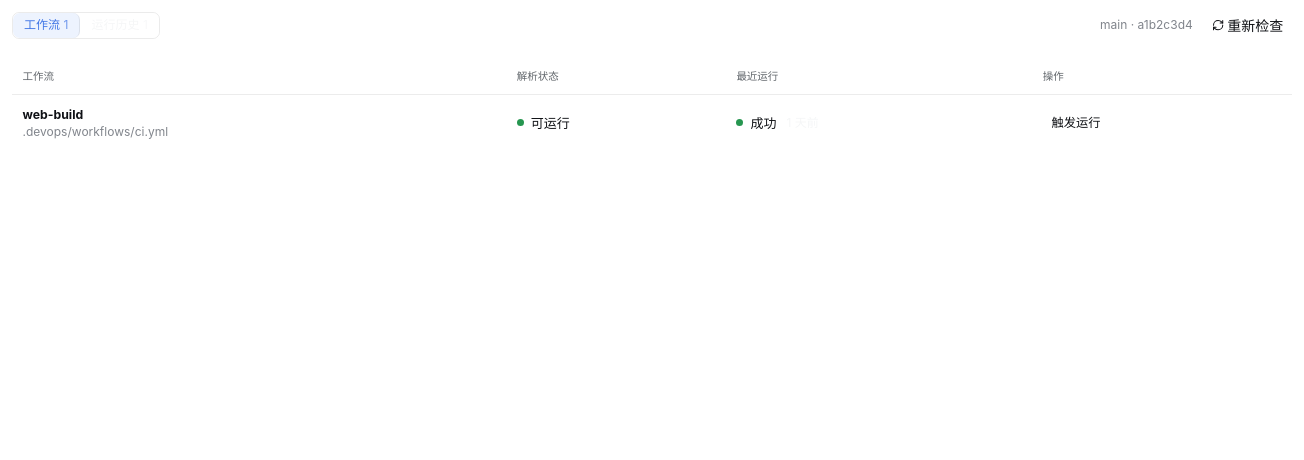
pipelines-page › 运行历史行链接到详情，并支持状态筛选与无匹配清除
Click the tab "运行历史 1" at (120, 25), box [80,13,159,38]
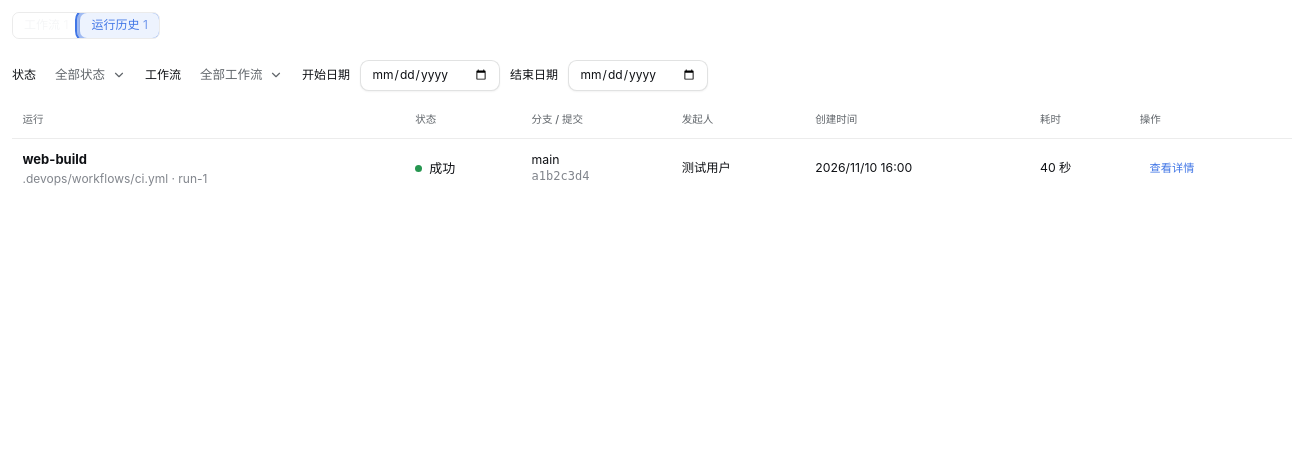
Select "失败" in the dropdown named "按状态筛选" at (90, 75), box [46,60,135,90]
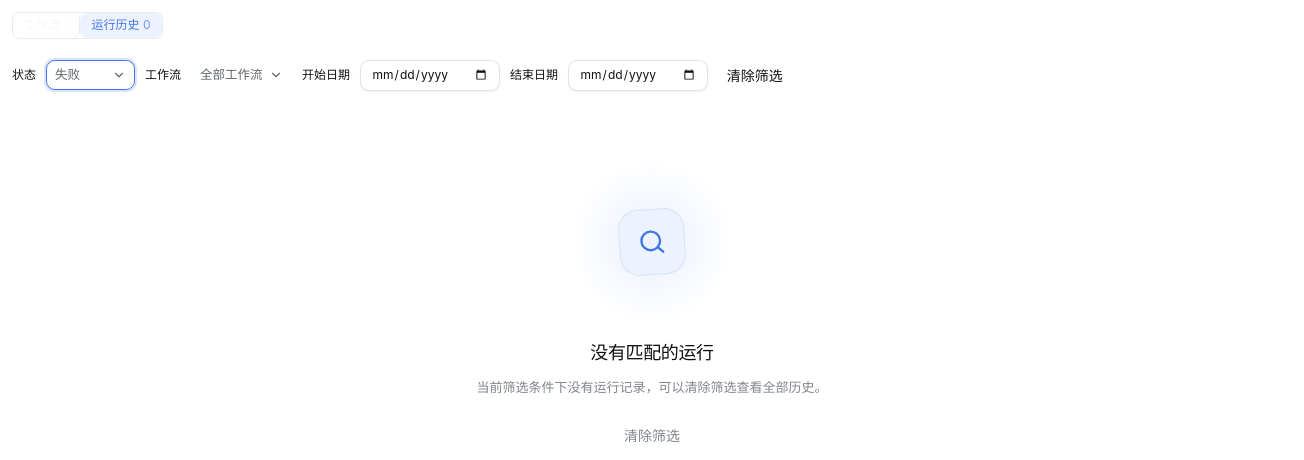
Now the heading "没有匹配的运行" is shown, box [590,339,714,366]
Click the button "清除筛选" in the row of "结束日期" at (755, 75), box [718,63,792,88]
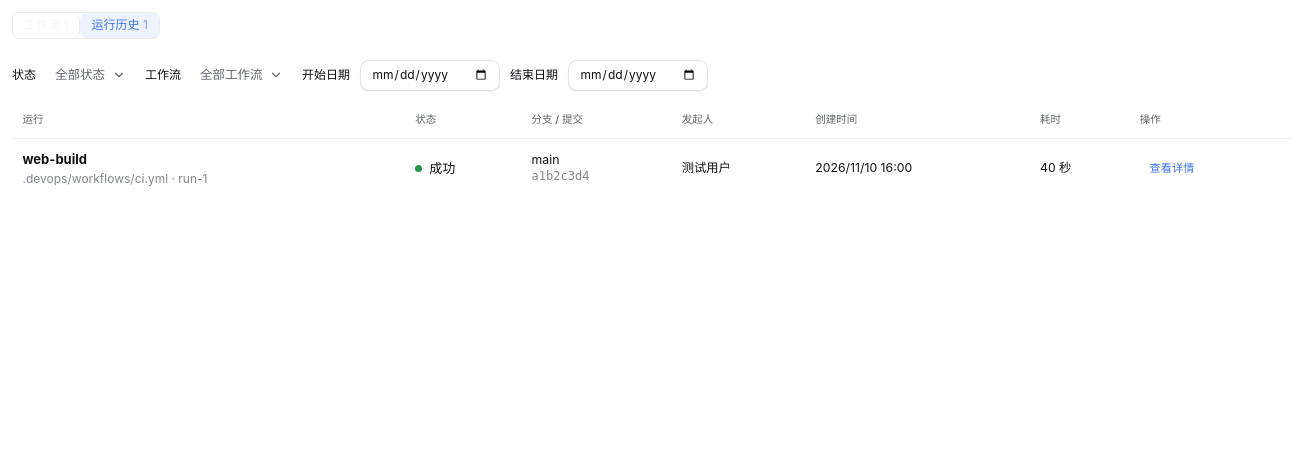
Now the link "web-build" is shown, box [22,149,87,170]
Now the button "清除筛选" is gone
